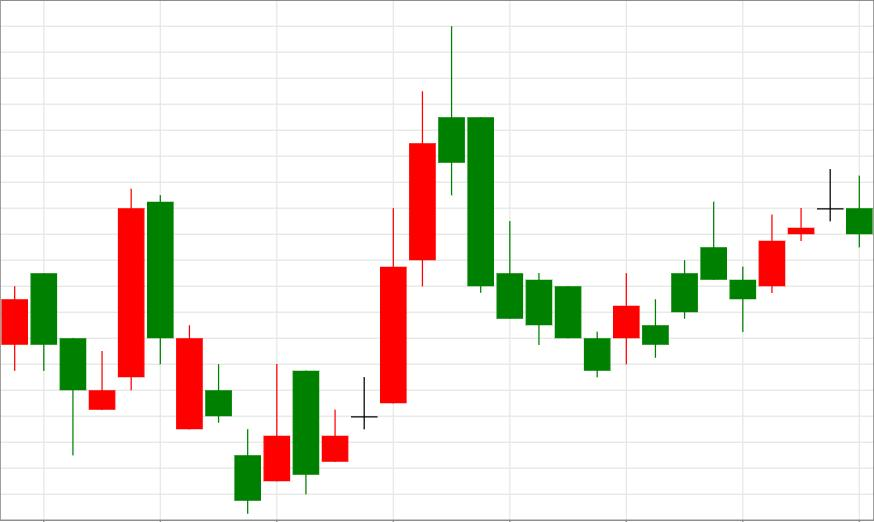three_black_crows_fall: (322, 25, 552, 462)
